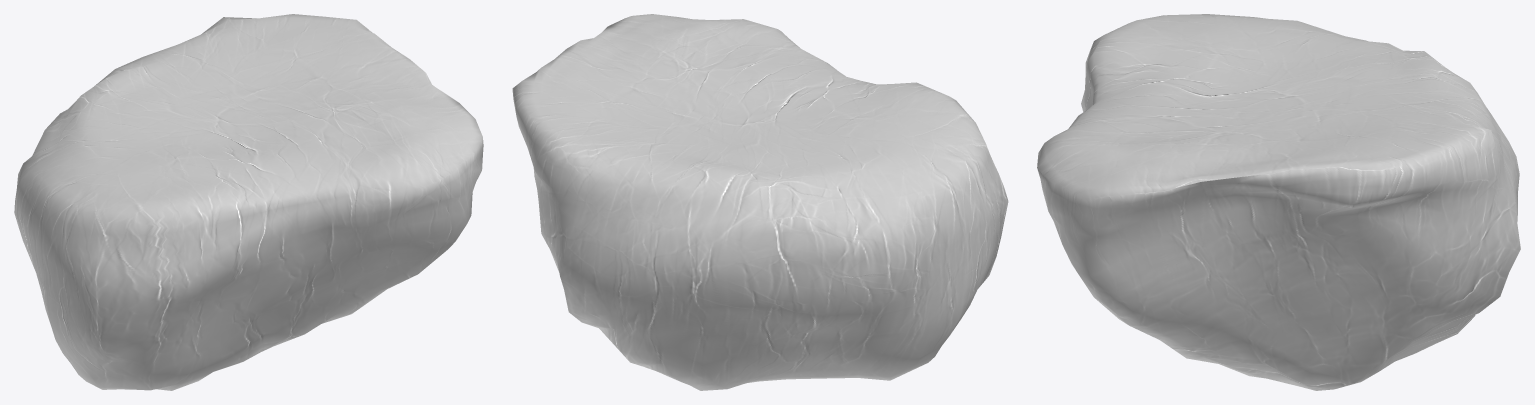
3 renders of one model, left to right at view 1: azimuth 30°, elevation 25°; view 2: azimuth 150°, elevation 25°; view 3: azimuth 270°, elevation 25°, orthographic. The views are drawn at different scales.
Parts seen in each view (by area): view 1: Glacier_lp; view 2: Glacier_lp; view 3: Glacier_lp.
Boxes of the visible parts, bbox=[...] form: Glacier_lp: bbox=[14, 14, 483, 390]; Glacier_lp: bbox=[512, 14, 1008, 390]; Glacier_lp: bbox=[1037, 14, 1520, 390].
Bounding box in the file's own units: 21.43 × 13.98 × 20.35.
Materials: 1 (1 with a texture image).
